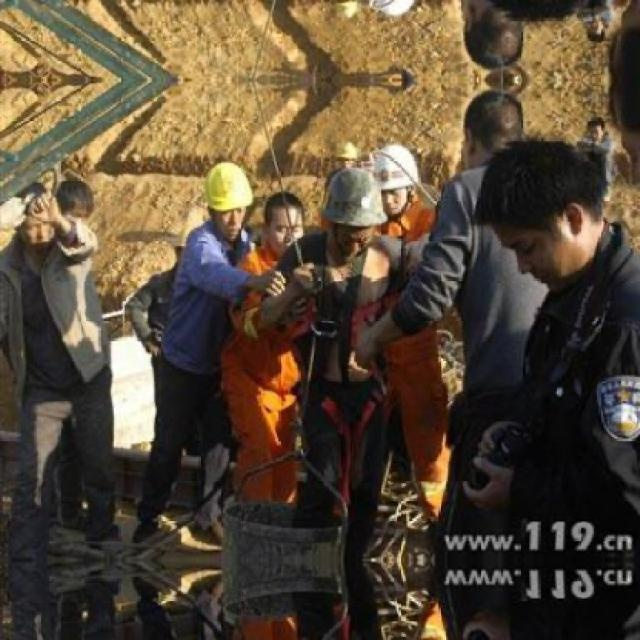Arnes_seguridad: (312, 241, 373, 385)
